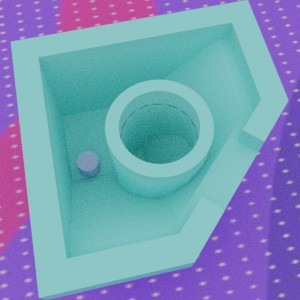lego: (10, 0, 288, 300), (44, 104, 180, 249)
